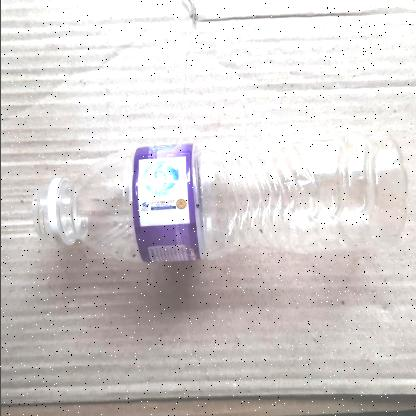Plastic Bottle: (28, 129, 408, 267)
